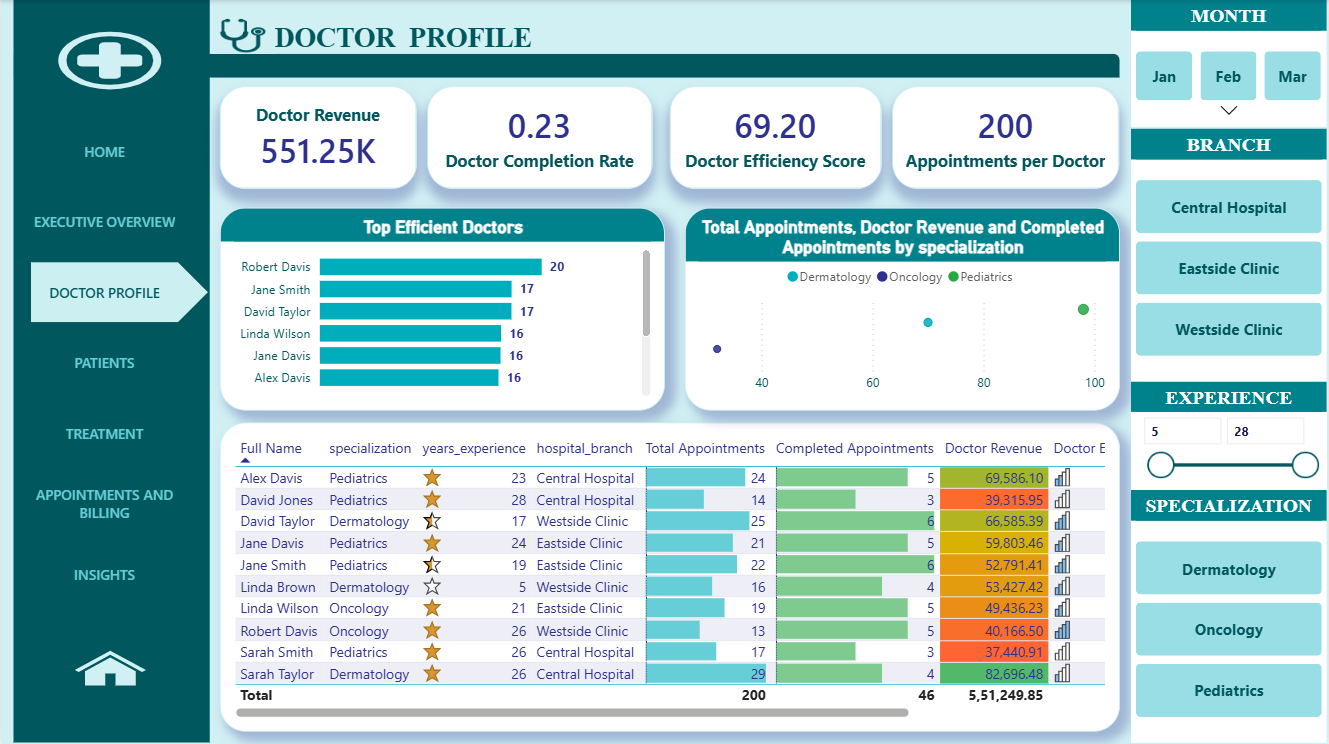

The dashboard page shown, as its layout file describes it:
{"tool":"powerbi","page":{"name":"DOCTOR  PROFILE","canvas":[1280,720],"ordinal":2},"visuals":[{"type":"barChart","title":"Top Efficient Doctors","fields":{"Y":["doctors.Doctor Efficiency Score"],"Category":["doctors.Full Name"]},"box":[210.6,200.5,429.9,196.2],"z":0},{"type":"tableEx","fields":{"Values":["doctors.Full Name","doctors.specialization","doctors.years_experience","doctors.hospital_branch","appointments.Total Appointments","appointments.Completed Appointments","doctors.Doctor Revenue","doctors.Doctor Efficiency Score","doctors.Doctor Completion Rate"]},"box":[210.6,408.3,868.5,298.7],"z":1000},{"type":"scatterChart","fields":{"X":["appointments.Total Appointments"],"Y":["doctors.Doctor Revenue"],"Size":["appointments.Completed Appointments"],"Series":["doctors.specialization"]},"box":[659.3,200.5,419.8,196.2],"z":2000},{"type":"shape","box":[12.1,0,189.4,716.6],"z":3000},{"type":"slicer","title":"EXPERIENCE","fields":{"Values":["doctors.years_experience"]},"box":[1090.7,367.9,189,105.3],"z":4000},{"type":"advancedSlicerVisual","title":"SPECIALIZATION","fields":{"Values":["doctors.specialization"]},"box":[1090.7,473.2,189,243.8],"z":5000},{"type":"cardVisual","fields":{"Data":["doctors.Doctor Revenue"]},"box":[210.6,83.7,190.4,99.6],"z":6000},{"type":"advancedSlicerVisual","title":"BRANCH","fields":{"Values":["doctors.hospital_branch"]},"box":[1090.7,124.1,189,243.8],"z":7000},{"type":"advancedSlicerVisual","title":"MONTH","fields":{"Values":["DateTable.Month Name"]},"box":[1090.7,0,189,122.6],"z":8000},{"type":"shape","box":[11.5,51.9,1067.6,23.1],"z":9000},{"type":"textbox","box":[161.6,17.3,453,44.7],"z":10000},{"type":"cardVisual","fields":{"Data":["doctors.Doctor Completion Rate"]},"box":[411.2,83.7,217.9,99.6],"z":11000},{"type":"cardVisual","fields":{"Data":["doctors.Doctor Efficiency Score"]},"box":[644.9,83.7,204.9,99.6],"z":12000},{"type":"cardVisual","fields":{"Data":["appointments.Appointments per Doctor"]},"box":[859.9,83.7,219.3,99.6],"z":13000},{"type":"pageNavigator","box":[29,117,171.3,470.5],"z":14000},{"type":"image","box":[200.3,16.9,66.4,35],"z":15000},{"type":"image","box":[42.2,0,125.5,117],"z":16000},{"type":"image","box":[66.4,605.6,78.4,78.4],"z":17000}]}

Visuals, with their boxes in screenshot pixels (x1, y1, x2, y2), scaled from the page's 1280x720 canvas onto the 1329x744 screenshot:
"Top Efficient Doctors" barChart: 219 207 665 410
tableEx - doctors.Full Name x doctors.specialization: 219 422 1120 731
scatterChart - appointments.Total Appointments x doctors.Doctor Revenue: 685 207 1120 410
shape: 13 0 209 740
"EXPERIENCE" slicer: 1132 380 1328 489
"SPECIALIZATION" advancedSlicerVisual: 1132 489 1328 741
cardVisual - doctors.Doctor Revenue: 219 86 416 189
"BRANCH" advancedSlicerVisual: 1132 128 1328 380
"MONTH" advancedSlicerVisual: 1132 0 1328 127
shape: 12 54 1120 78
textbox: 168 18 638 64
cardVisual - doctors.Doctor Completion Rate: 427 86 653 189
cardVisual - doctors.Doctor Efficiency Score: 670 86 882 189
cardVisual - appointments.Appointments per Doctor: 893 86 1121 189
pageNavigator: 30 121 208 607
image: 208 17 277 54
image: 44 0 174 121
image: 69 626 150 707
